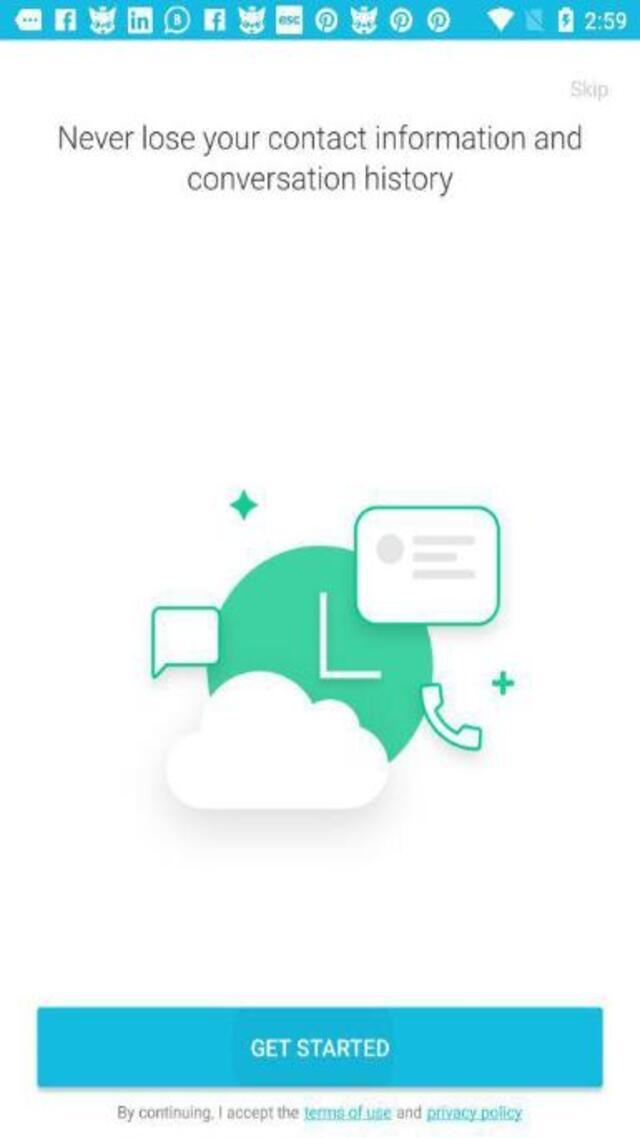Image: (150, 488, 514, 810)
Text: (52, 124, 590, 158), (179, 162, 464, 202), (118, 1103, 524, 1123), (245, 1034, 395, 1063), (570, 79, 608, 102)
TextButton: (36, 1004, 602, 1086)
